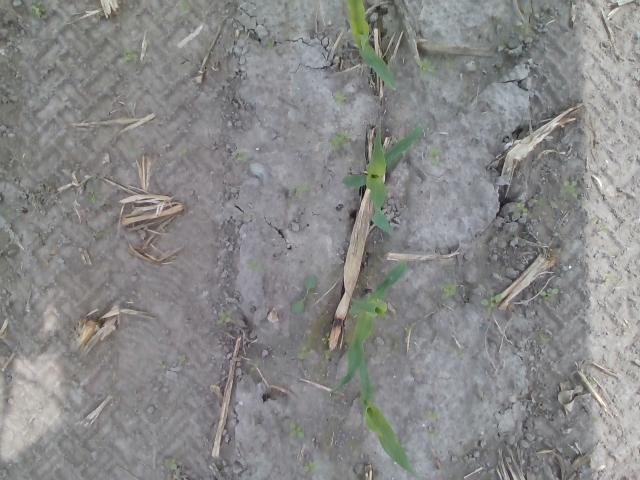Maize: (324, 257, 410, 396), (341, 115, 427, 234), (355, 344, 424, 479), (345, 0, 397, 89)
Weeds: (292, 276, 316, 314), (481, 289, 502, 314), (328, 129, 351, 150), (417, 57, 434, 79), (425, 146, 443, 166), (121, 44, 138, 64), (229, 148, 251, 163), (560, 180, 578, 198), (290, 182, 309, 198), (438, 282, 457, 298), (30, 1, 46, 19), (302, 459, 322, 472), (540, 287, 559, 300), (332, 90, 347, 106), (288, 423, 304, 438), (422, 409, 440, 421), (216, 311, 232, 324), (602, 274, 618, 287), (298, 346, 312, 359), (164, 457, 178, 469), (536, 330, 550, 342), (180, 0, 191, 14), (515, 202, 528, 213), (88, 186, 96, 202), (246, 260, 258, 270), (178, 146, 188, 157), (322, 332, 331, 344), (156, 360, 167, 369), (324, 348, 332, 360), (426, 428, 436, 437), (178, 354, 186, 364), (534, 198, 544, 206), (404, 324, 412, 332), (250, 363, 258, 370), (267, 42, 274, 50), (456, 351, 462, 360), (600, 226, 608, 231), (402, 150, 406, 156)
